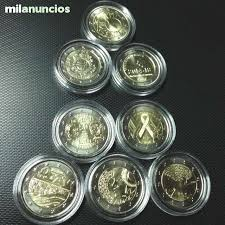eur002: (21, 159, 78, 219), (57, 106, 114, 159)
